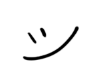shi: (19, 23, 81, 64)
